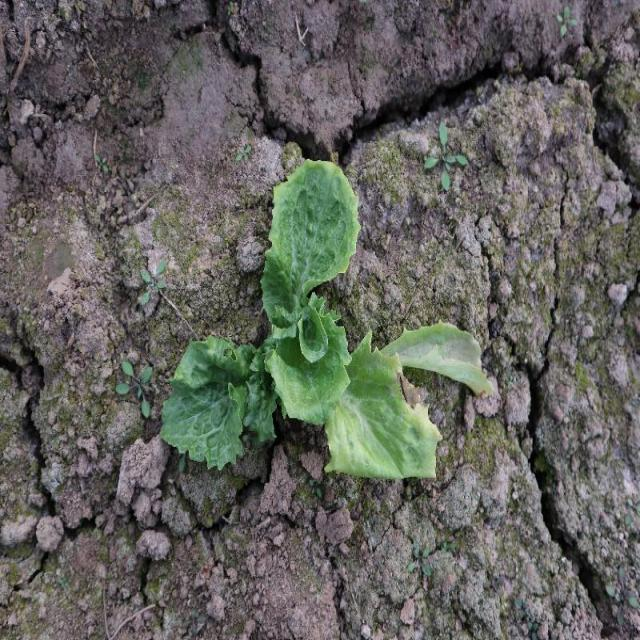crop: (159, 156, 490, 482)
